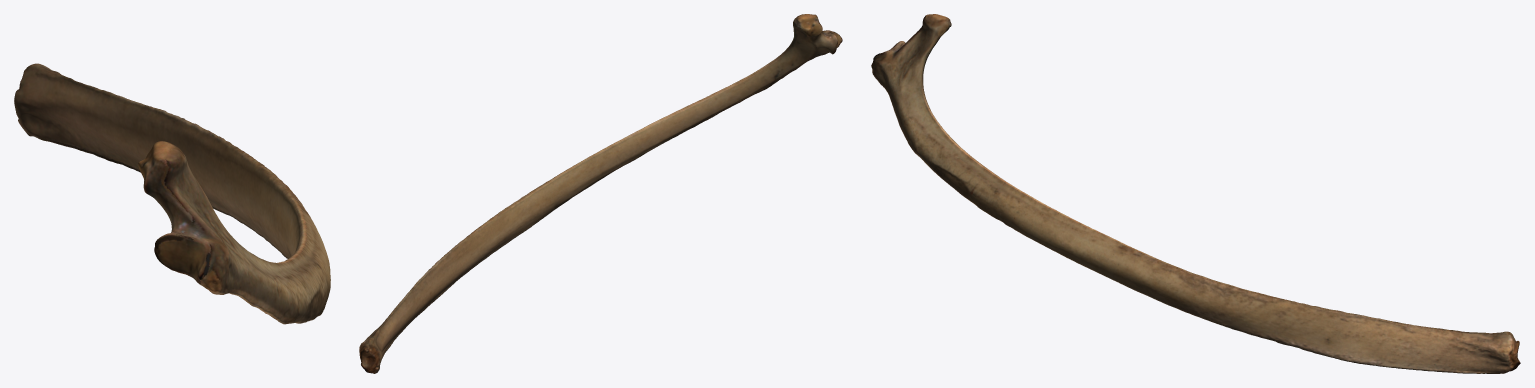
3 renders of one model, left to right at view 1: azimuth 30°, elevation 25°; view 2: azimuth 150°, elevation 25°; view 3: azimuth 270°, elevation 25°, orthographic. The views are drawn at different scales.
Visible parts, largest first — view 1: Node; view 2: Node; view 3: Node.
Boxes of the visible parts, x1,y1,x2,y2 form: Node: [14, 63, 330, 324]; Node: [359, 14, 842, 373]; Node: [871, 14, 1520, 373].
Bounding box in the file's own units: 190 × 185 × 430.
1 material, 1 textured.
